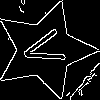V: (19, 25, 76, 71)
